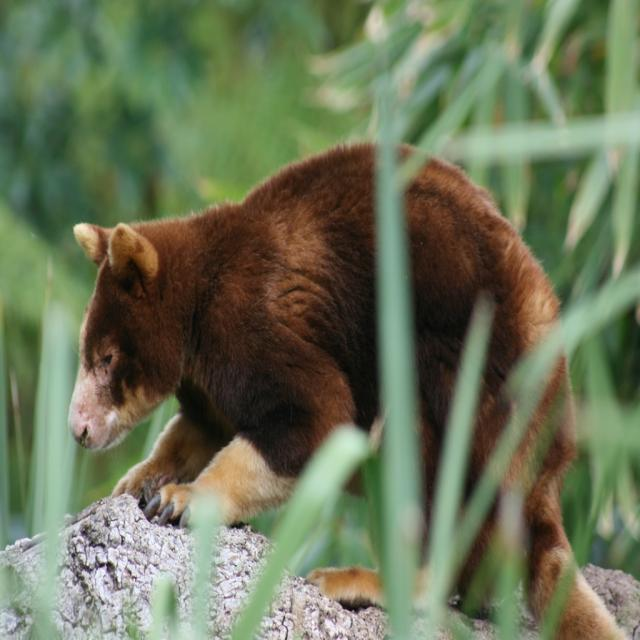Bear: (68, 136, 631, 640)
